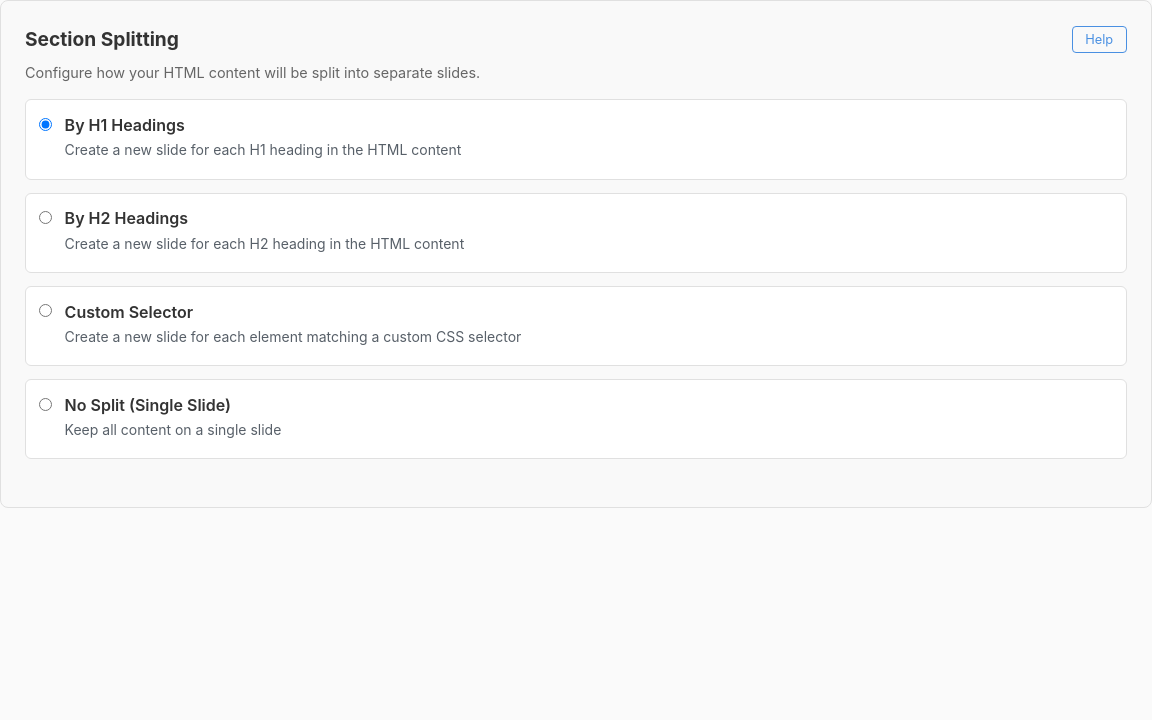
Scenario: SectionSplittingConfig Component › shows help panel when help button is clicked
The width and height of the screenshot is (1152, 720).
Check: the text "About Section Splitting" is not shown
Note: Click on the help button
Click the button "Help": (1099, 39) [1072, 26, 1127, 53]
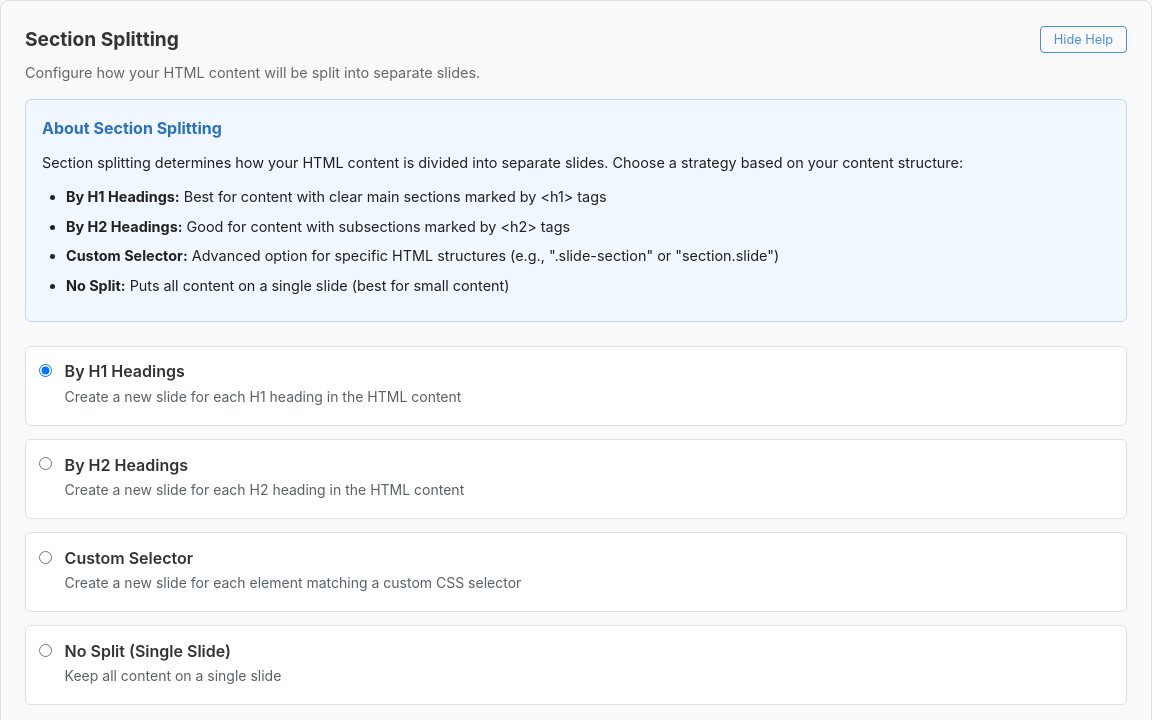
Check: the heading "About Section Splitting" is shown, box [42, 118, 222, 138]
Note: Click on the help button again to hide the help panel
Click the button "Hide Help": (1084, 39) [1040, 26, 1127, 53]
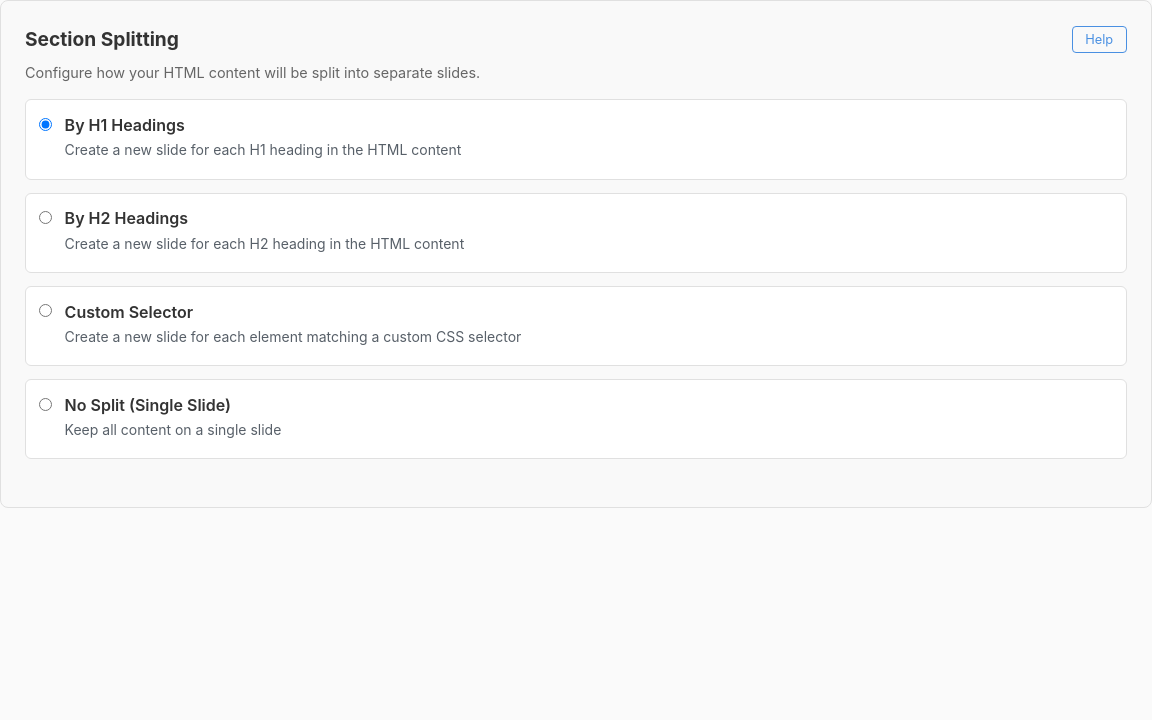
Check: the heading "About Section Splitting" is gone
